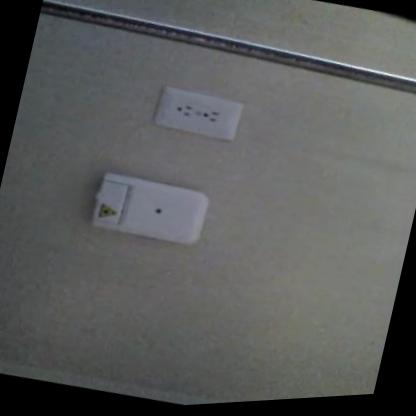OUTLET: (154, 82, 244, 146)
